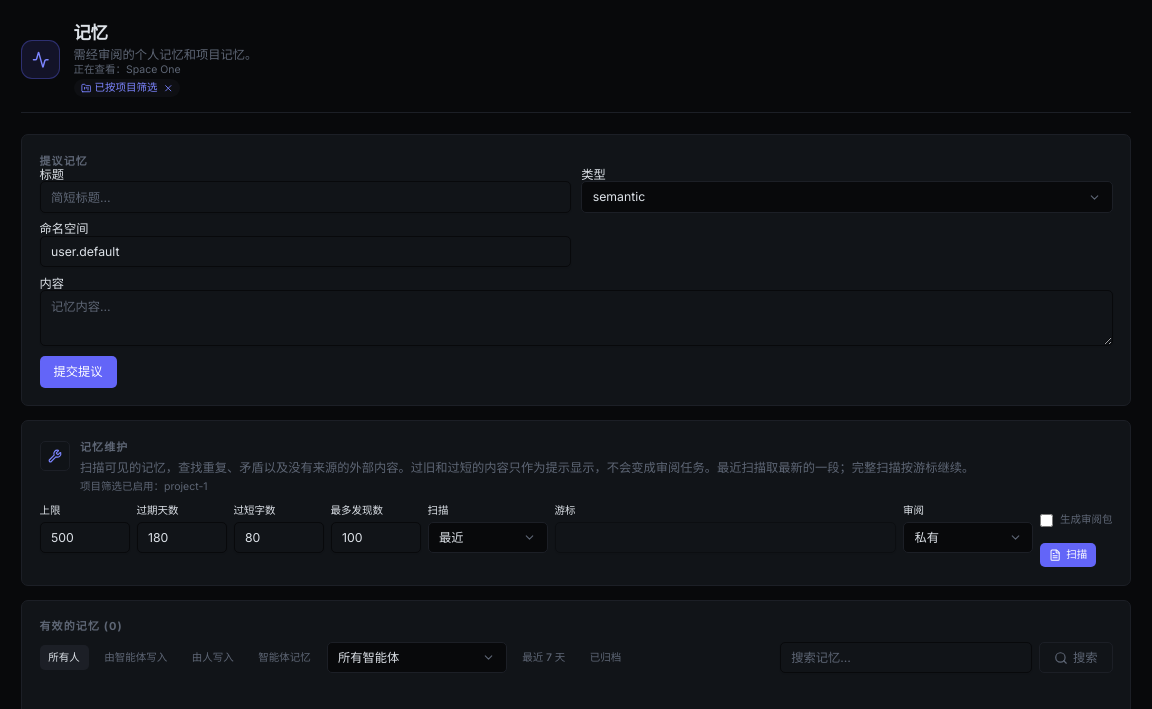
MemoriesPage maintenance UI › counts a scan in Chinese
Click the button "扫描" at (1068, 555), box x1=1040 y1=543 x2=1096 y2=567
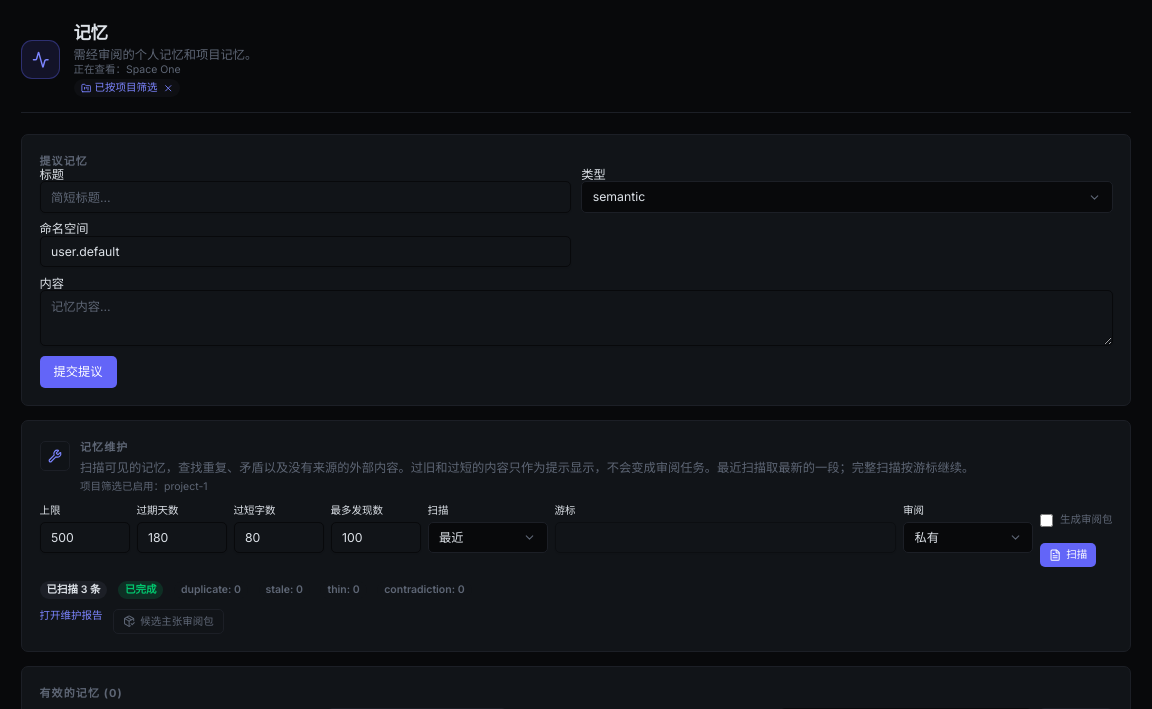
Result: the text "已扫描 3 条" is shown at x1=40 y1=581 x2=108 y2=599
Result: the text "已完成" is shown at x1=118 y1=581 x2=164 y2=599
